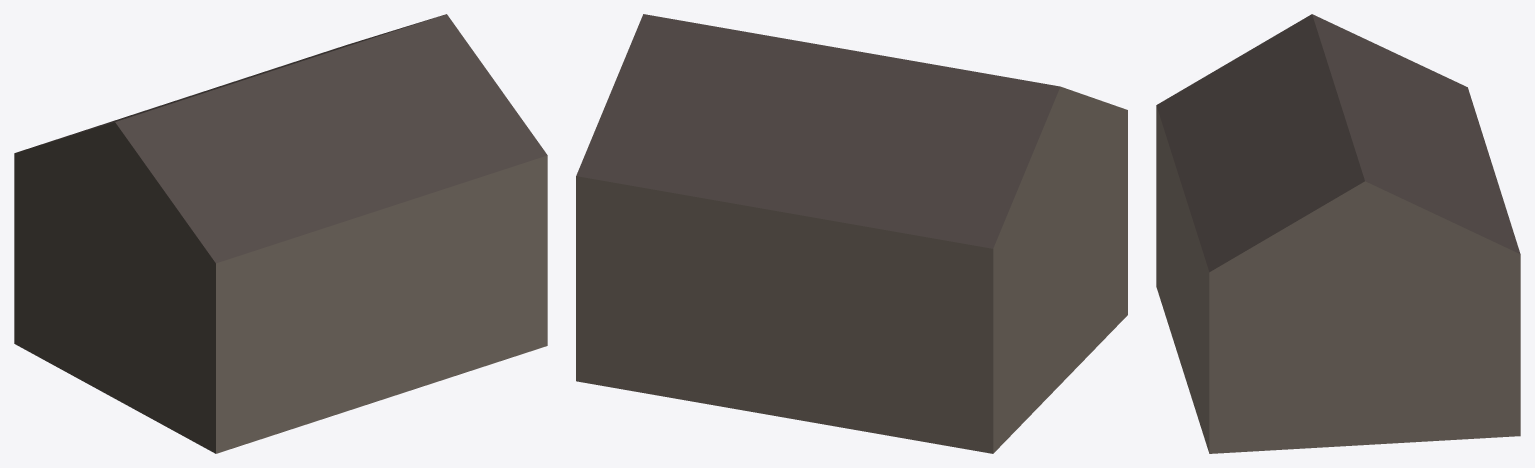
3 renders of one model, left to right at view 1: azimuth 30°, elevation 25°; view 2: azimuth 150°, elevation 25°; view 3: azimuth 270°, elevation 25°, orthographic. The views are drawn at different scales.
Parts seen in each view (by area): view 1: HP-w859488879; view 2: HP-w859488879; view 3: HP-w859488879.
Boxes of the visible parts, box(x1,y1,x2,y2) form: HP-w859488879: box(14, 14, 547, 453); HP-w859488879: box(576, 14, 1127, 453); HP-w859488879: box(1156, 14, 1520, 453).
Bounding box in the file's own units: 19.68 × 13.08 × 16.36.
